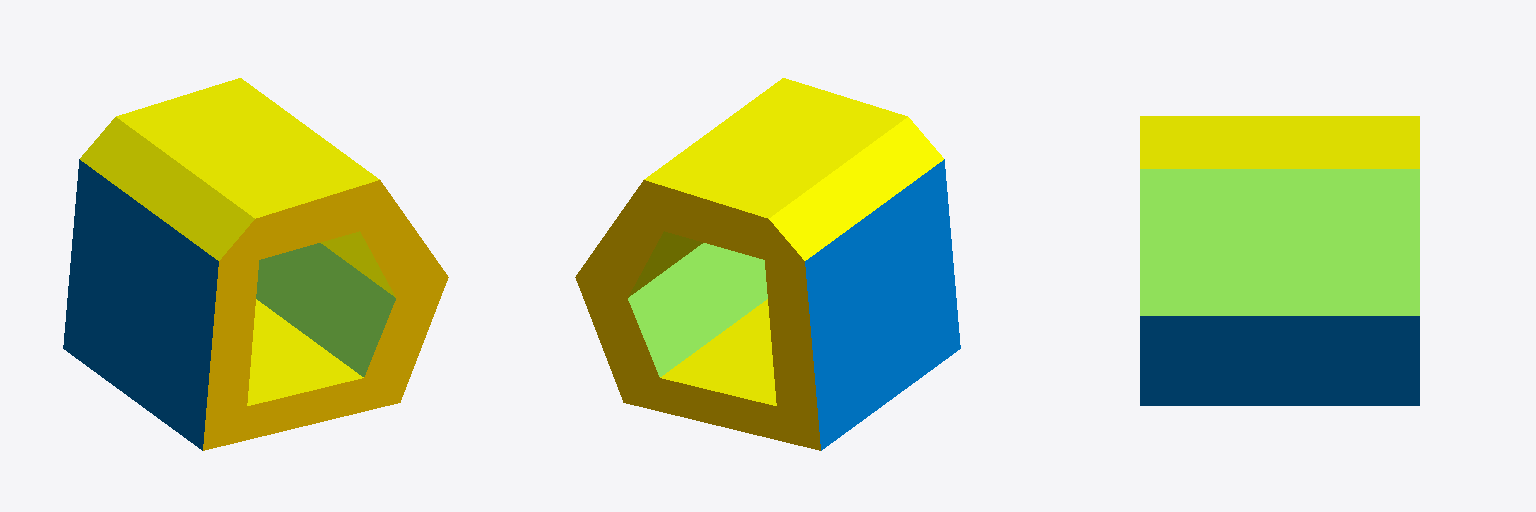
3 views of the same model, side by side, from view 1: azimuth 30°, elevation 25°; view 2: azimuth 150°, elevation 25°; view 3: azimuth 270°, elevation 25° (orthographic).
Visible parts, largest first — view 1: STL object; view 2: STL object; view 3: STL object.
Boxes of the visible parts, x1=… form: STL object: x1=63, y1=78, x2=448, y2=450; STL object: x1=575, y1=78, x2=960, y2=450; STL object: x1=1140, y1=116, x2=1419, y2=405.
Size of the model in its own units: 61 by 54 by 60.